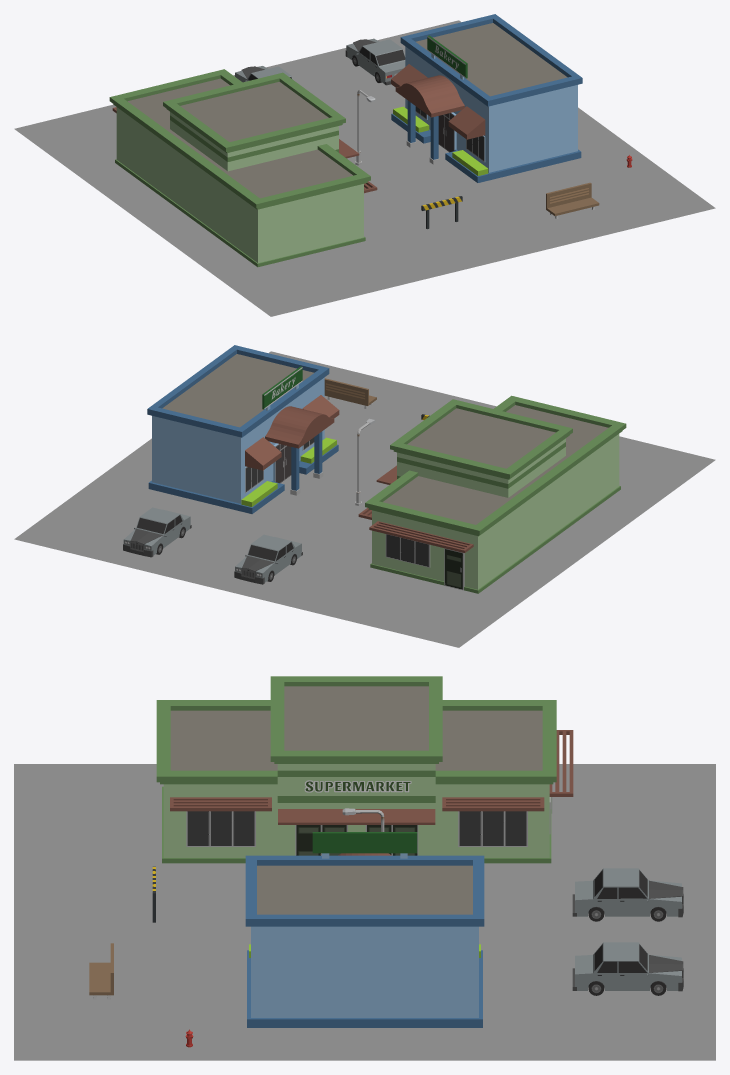
Rendered from remix-commercial-market.glb.
3 views of the same model, one above another, from view 1: azimuth 30°, elevation 25°; view 2: azimuth 150°, elevation 25°; view 3: azimuth 270°, elevation 25° (orthographic). The views are drawn at different scales.
Visible parts, largest first — view 1: Road Concrete Tile_Plane.010, Building_Super Market_Cube.025, Building_Bakery_Cube.003, Vehicle_Car_Cube.050 (×2), Props_Bench_2_Cube.022; view 2: Road Concrete Tile_Plane.010, Building_Super Market_Cube.025, Building_Bakery_Cube.003, Vehicle_Car_Cube.050 (×2), Props_Bench_2_Cube.022; view 3: Road Concrete Tile_Plane.010, Building_Super Market_Cube.025, Building_Bakery_Cube.003, Vehicle_Car_Cube.050 (×2), Props_Bench_2_Cube.022.
Boxes of the visible parts, x1=… form: Road Concrete Tile_Plane.010: x1=14, y1=20, x2=715, y2=316; Building_Super Market_Cube.025: x1=109, y1=69, x2=377, y2=267; Building_Bakery_Cube.003: x1=391, y1=14, x2=582, y2=182; Vehicle_Car_Cube.050 (×2): x1=235, y1=38, x2=405, y2=85; Props_Bench_2_Cube.022: x1=546, y1=182, x2=599, y2=218; Road Concrete Tile_Plane.010: x1=14, y1=351, x2=715, y2=647; Building_Super Market_Cube.025: x1=358, y1=395, x2=626, y2=593; Building_Bakery_Cube.003: x1=147, y1=345, x2=339, y2=513; Vehicle_Car_Cube.050 (×2): x1=123, y1=507, x2=302, y2=584; Props_Bench_2_Cube.022: x1=324, y1=378, x2=376, y2=408; Road Concrete Tile_Plane.010: x1=14, y1=764, x2=715, y2=1060; Building_Super Market_Cube.025: x1=156, y1=676, x2=573, y2=863; Building_Bakery_Cube.003: x1=245, y1=832, x2=484, y2=1027; Vehicle_Car_Cube.050 (×2): x1=572, y1=868, x2=683, y2=995; Props_Bench_2_Cube.022: x1=89, y1=943, x2=113, y2=999.
Size of the model in its own units: 40 by 8.48 by 40.
Materials: 6 (6 with a texture image).
